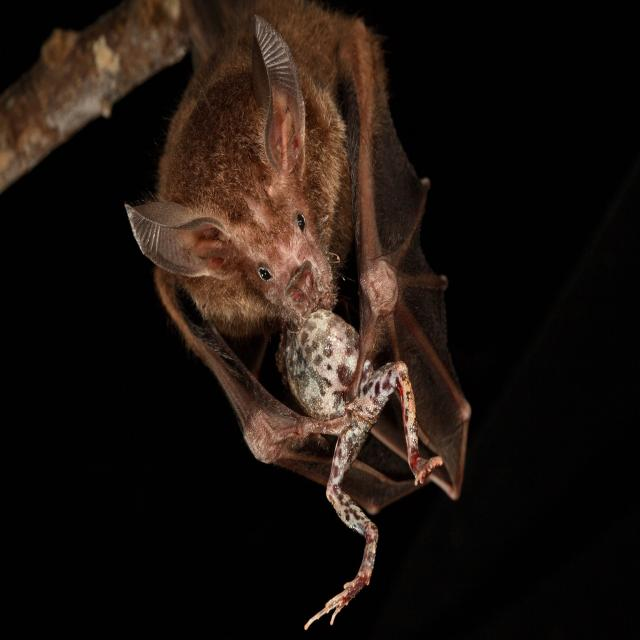Bat: (129, 5, 478, 511)
